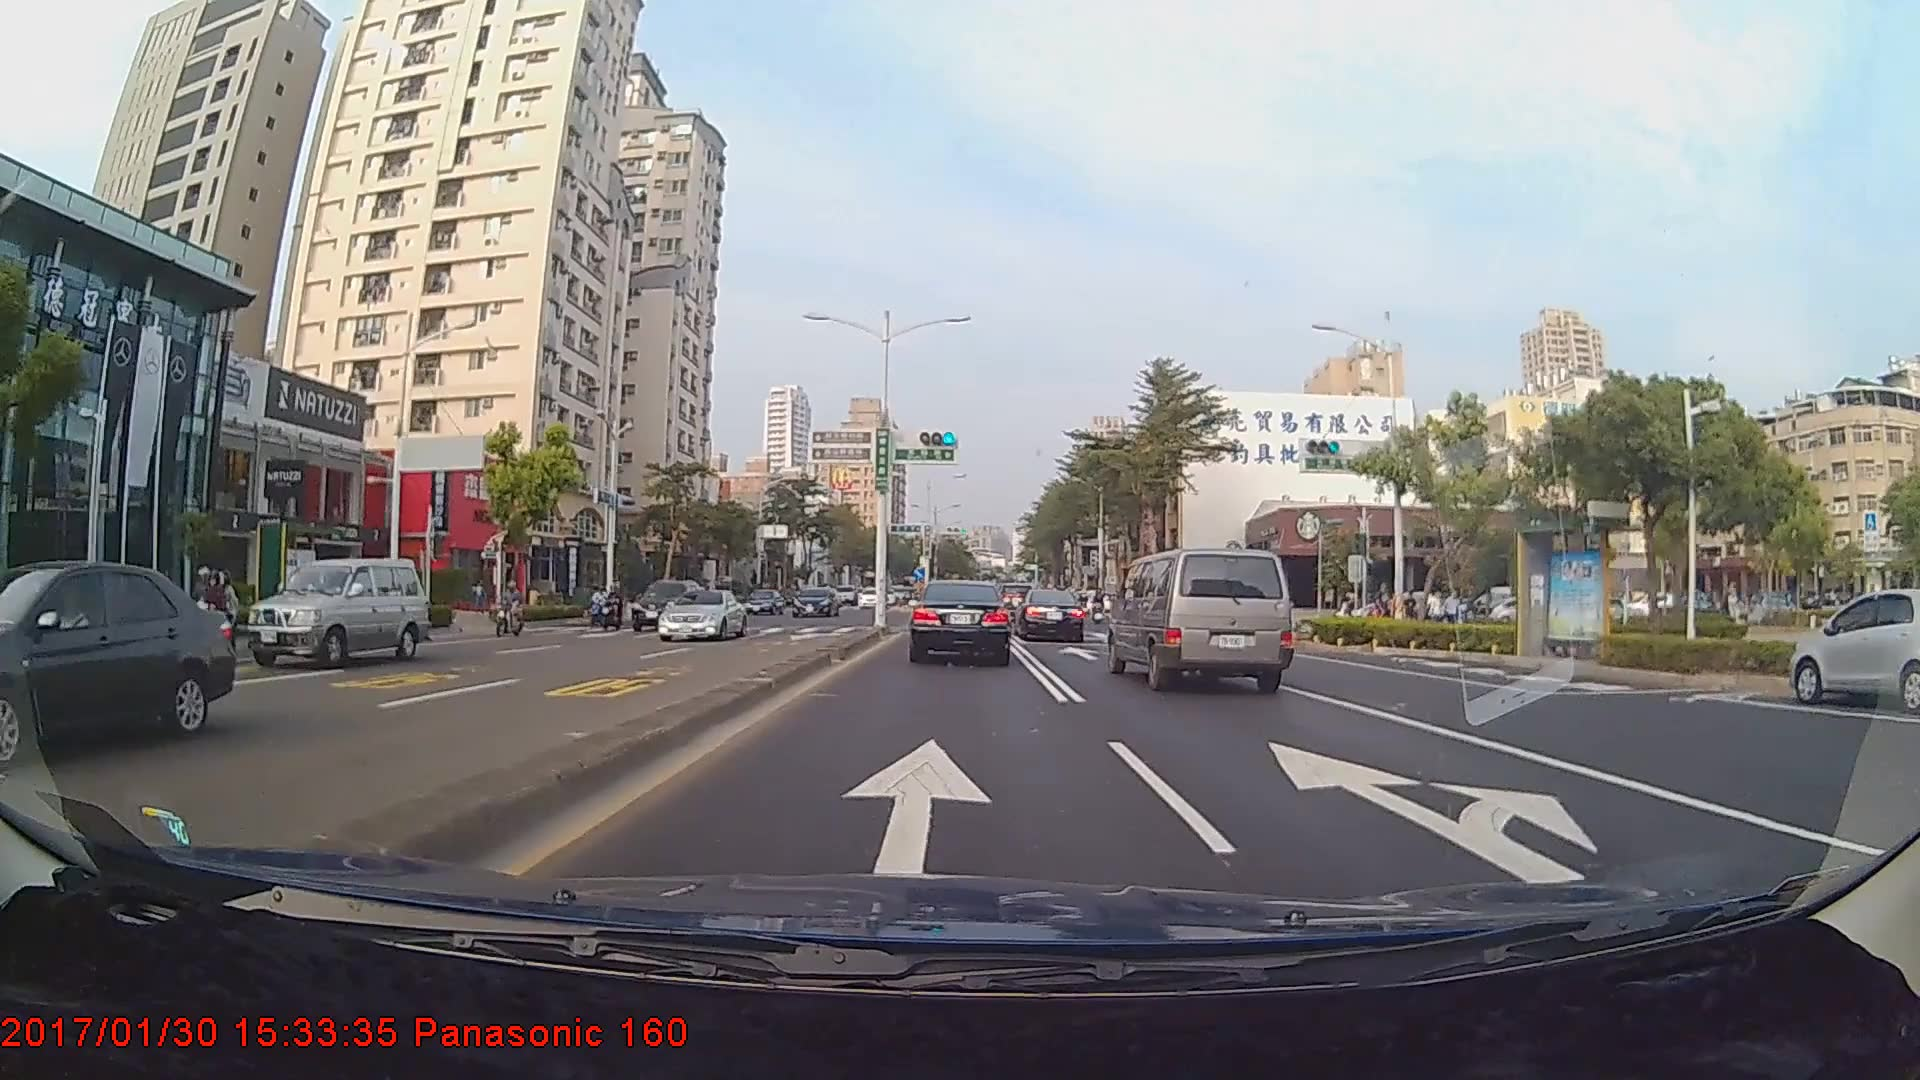rider: (166, 559, 233, 649), (489, 578, 530, 641), (594, 578, 623, 634), (584, 586, 610, 628)
vehicle: (0, 557, 239, 773), (1110, 543, 1294, 694), (239, 554, 428, 667), (1786, 584, 1920, 714), (912, 579, 1010, 663), (655, 589, 745, 641), (629, 576, 704, 632), (1014, 590, 1085, 642), (791, 585, 835, 615), (742, 587, 784, 614)
